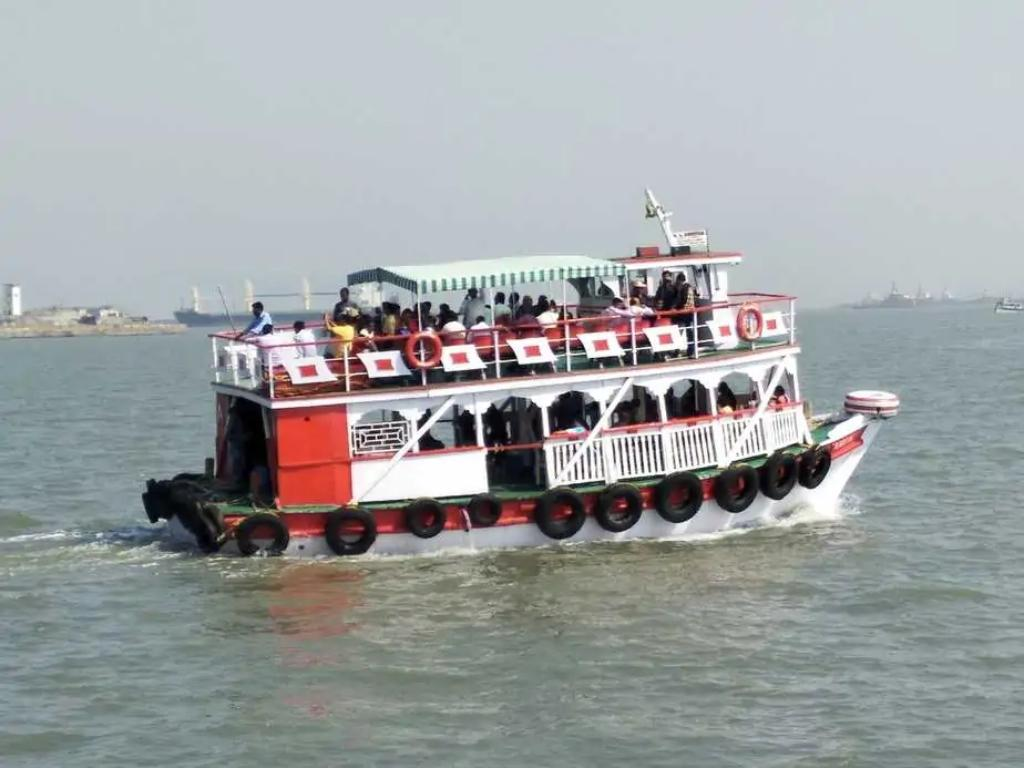PassengerShip: (130, 190, 906, 572)
